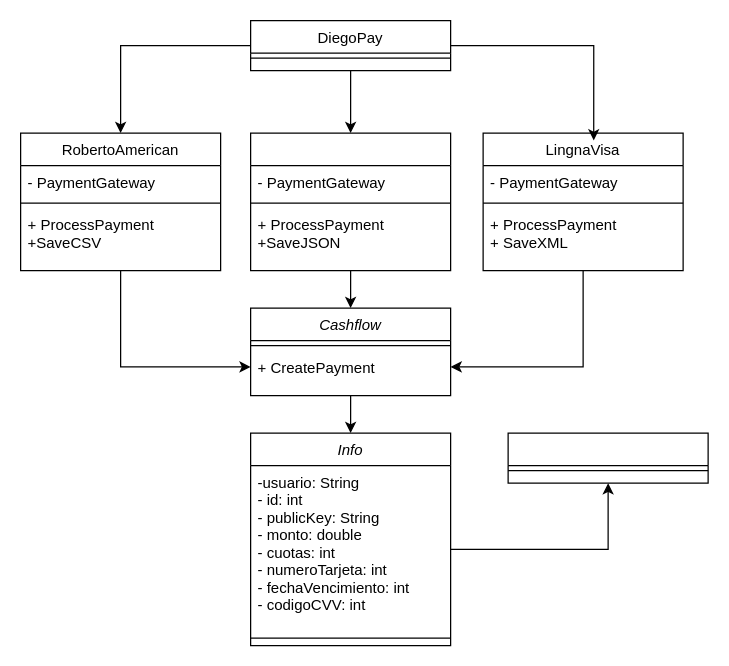
The diagram is 729 pixels wide and 666 high, and some of its shapes have lost their labels. Here are the shapes that lost their labels. From the top down, the box of each, then its label:
(249, 132, 451, 271): MoralesMastercard
(507, 432, 708, 483): (Menu)
